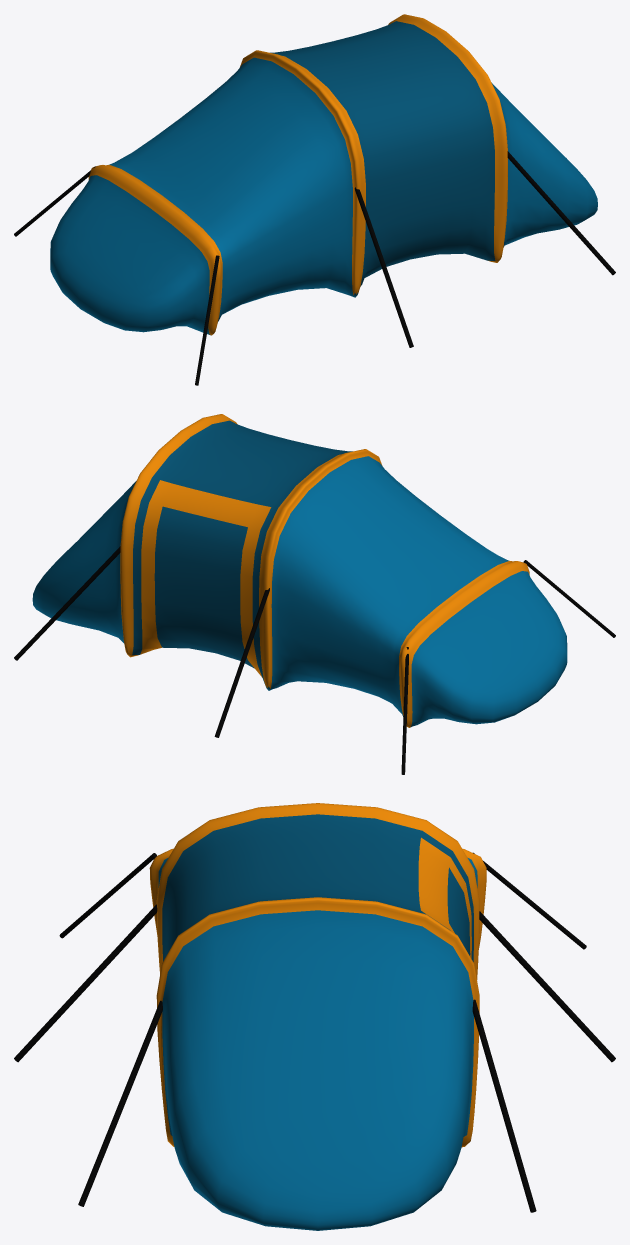
The model's file is Snow_Tent_1.fbx.
The picture shows the model from 3 angles, top to bottom: view 1: azimuth 30°, elevation 25°; view 2: azimuth 150°, elevation 25°; view 3: azimuth 270°, elevation 25°; orthographic projection. The views are drawn at different scales.
Visible parts, largest first — view 1: Cube.002; view 2: Cube.002; view 3: Cube.002.
Part boxes in pixels (left/top/right/bottom): Cube.002: left=14, top=14, right=615, bottom=385; Cube.002: left=14, top=414, right=615, bottom=774; Cube.002: left=14, top=803, right=615, bottom=1230.
Bounding box in the file's own units: 681 × 260 × 542.
